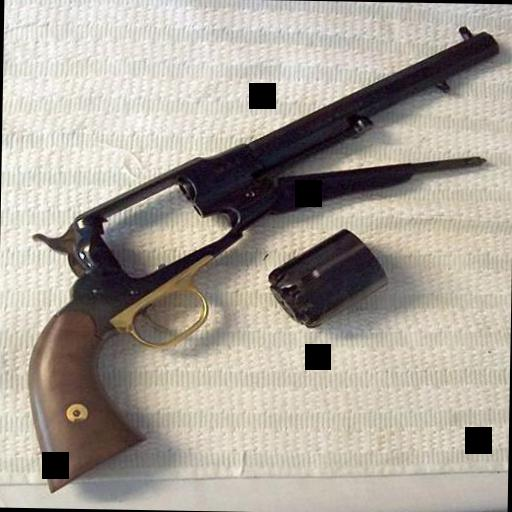Handgun: (11, 17, 499, 503)
